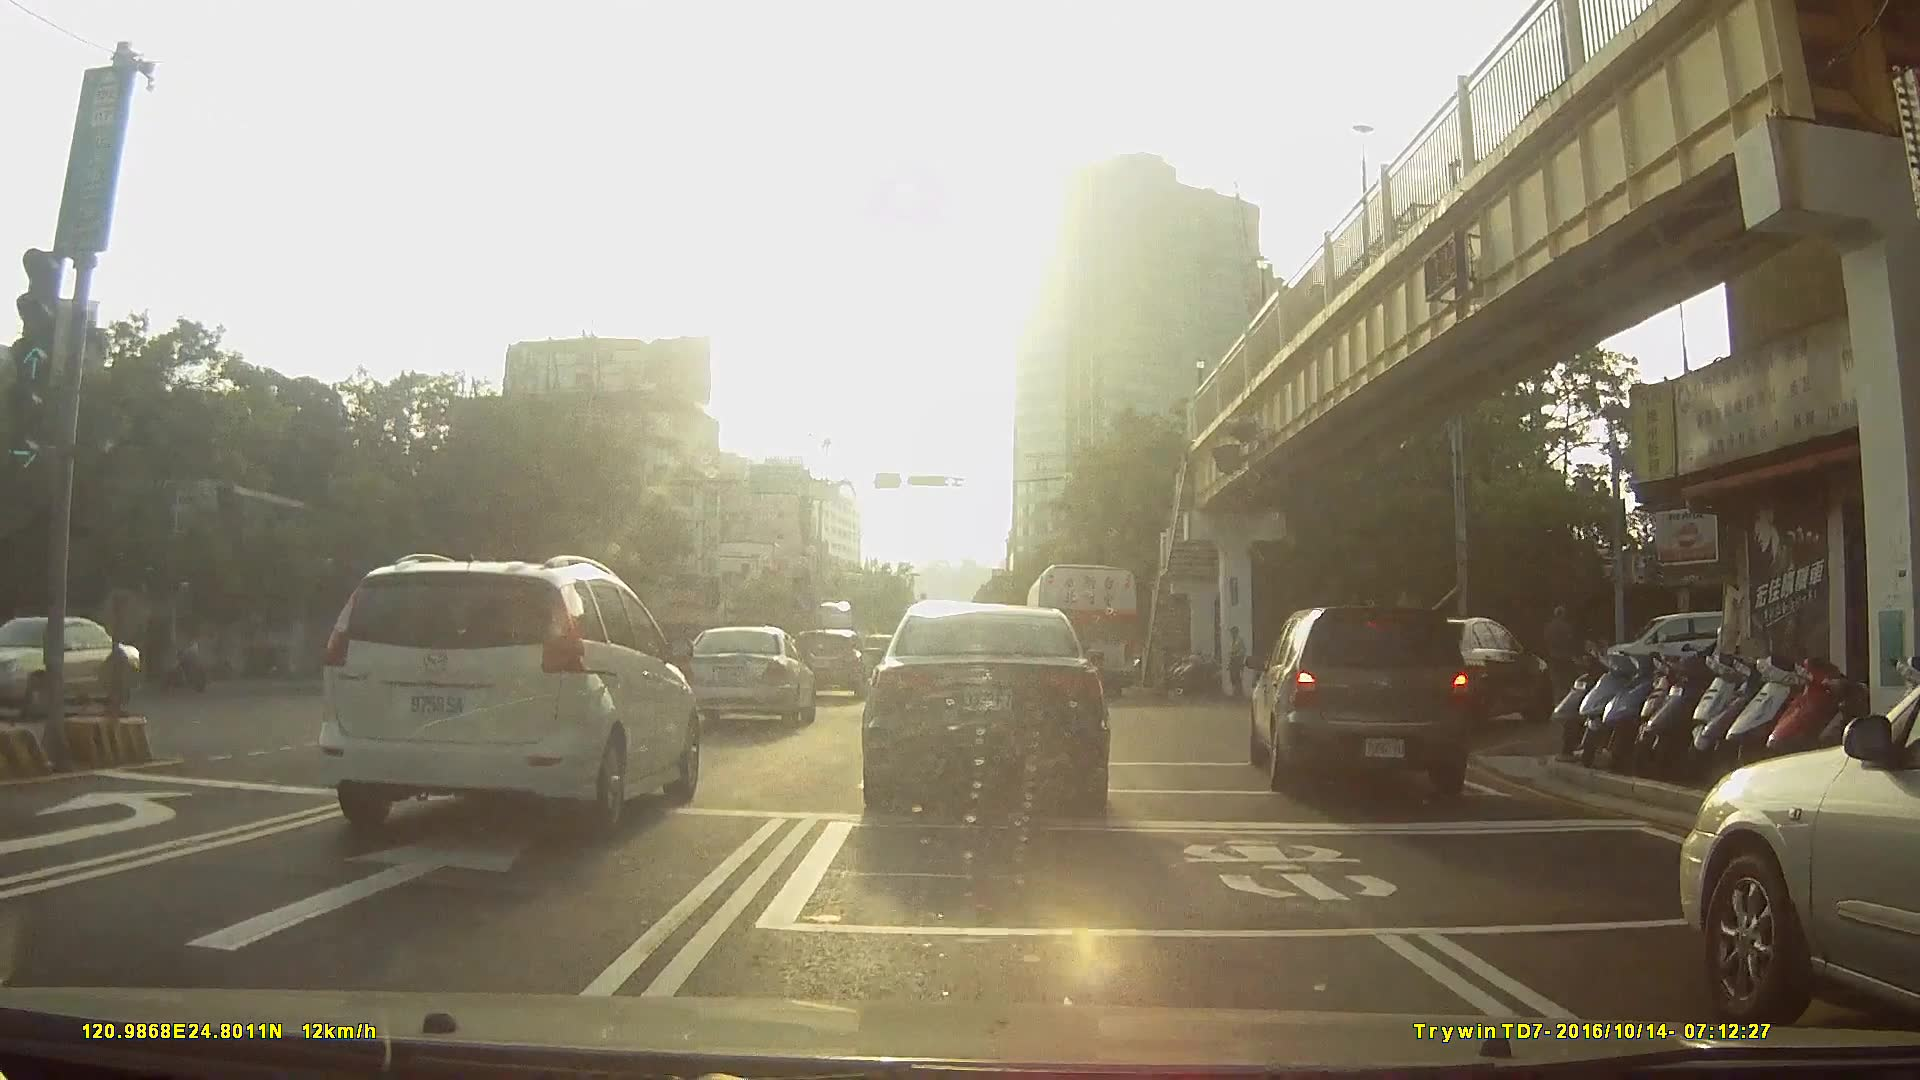pedestrian: (1227, 627, 1254, 701)
vehicle: (316, 553, 703, 841), (1684, 690, 1920, 1027), (863, 593, 1113, 818), (1243, 600, 1487, 803), (1419, 616, 1589, 737), (1, 615, 158, 721), (1026, 562, 1139, 701), (685, 625, 820, 732), (791, 626, 871, 701)
